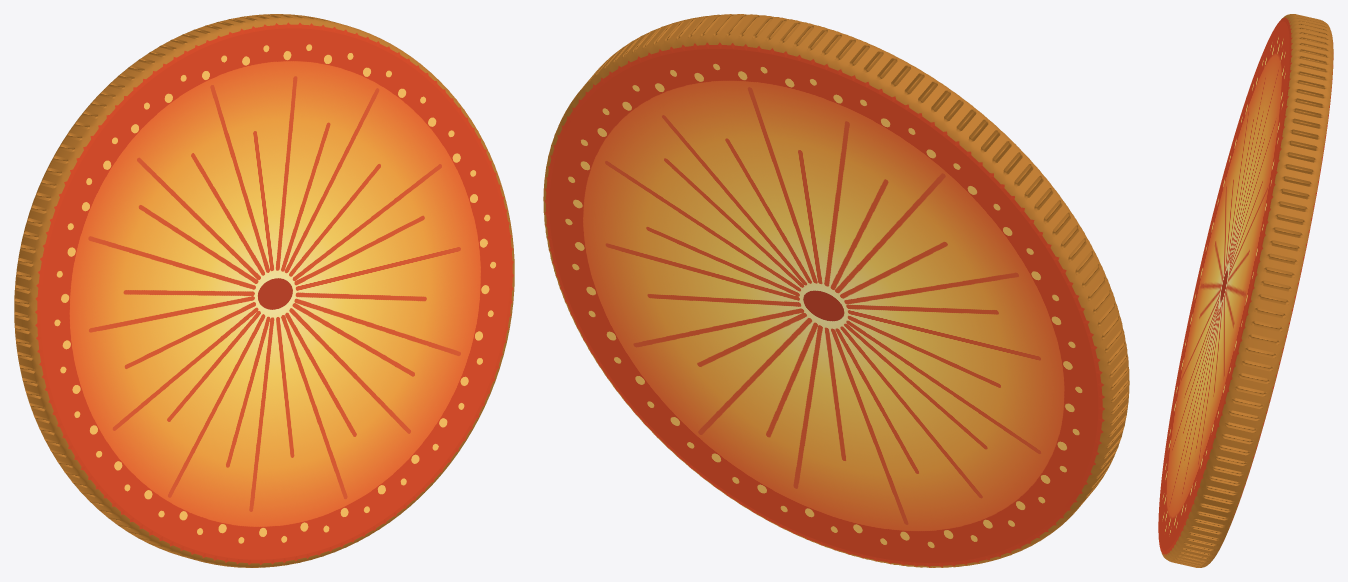
File: hazelnut_disc.glb
3 views of the same model, side by side, from view 1: azimuth 30°, elevation 25°; view 2: azimuth 150°, elevation 25°; view 3: azimuth 270°, elevation 25° (orthographic). The views are drawn at different scales.
Parts seen in each view (by area): view 1: Hazelnut Disc; view 2: Hazelnut Disc; view 3: Hazelnut Disc.
Part boxes in pixels (x1=…): Hazelnut Disc: x1=14, y1=14, x2=514, y2=567; Hazelnut Disc: x1=543, y1=14, x2=1129, y2=567; Hazelnut Disc: x1=1158, y1=14, x2=1333, y2=567.
Size of the model in its own units: 2 by 1.96 by 0.6234.
Materials: 2 (1 with a texture image).
